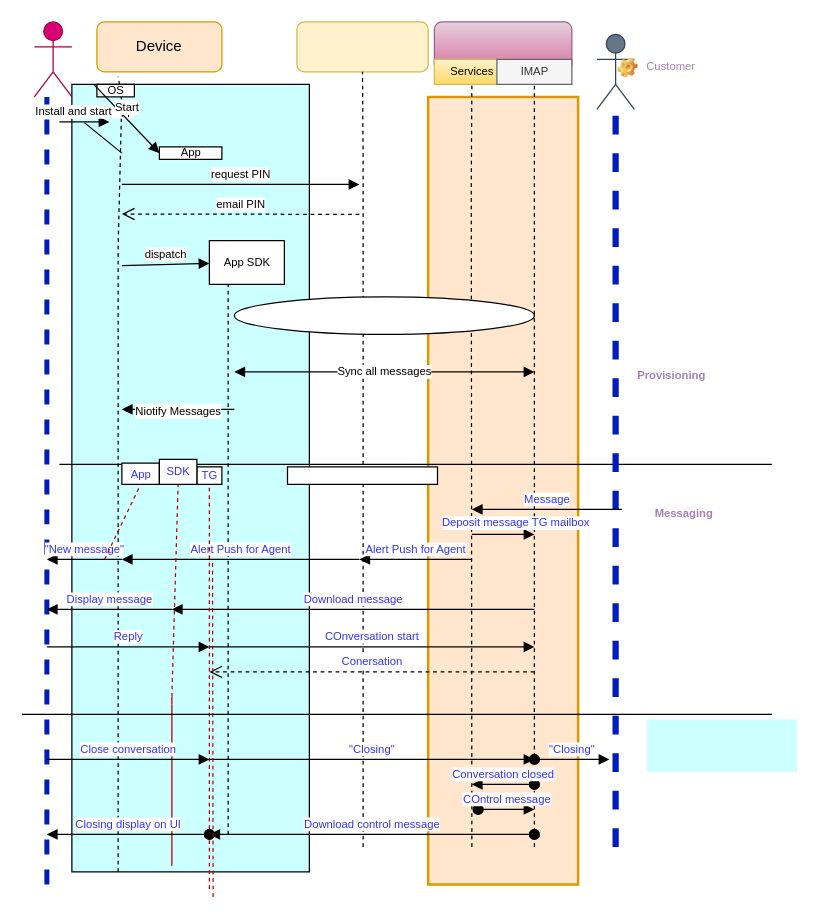
Image size: 819x920. Some labels were removed from this diagram. The box of each missing label's shape, as (x1, y1, x2, y2) in pixels:
Connect to TG mailbox: (233, 296, 534, 334)
End: (646, 719, 796, 771)
Message Server: (433, 21, 572, 72)
PUSH server: (286, 466, 438, 484)
Stored Program Control: (296, 21, 428, 72)
